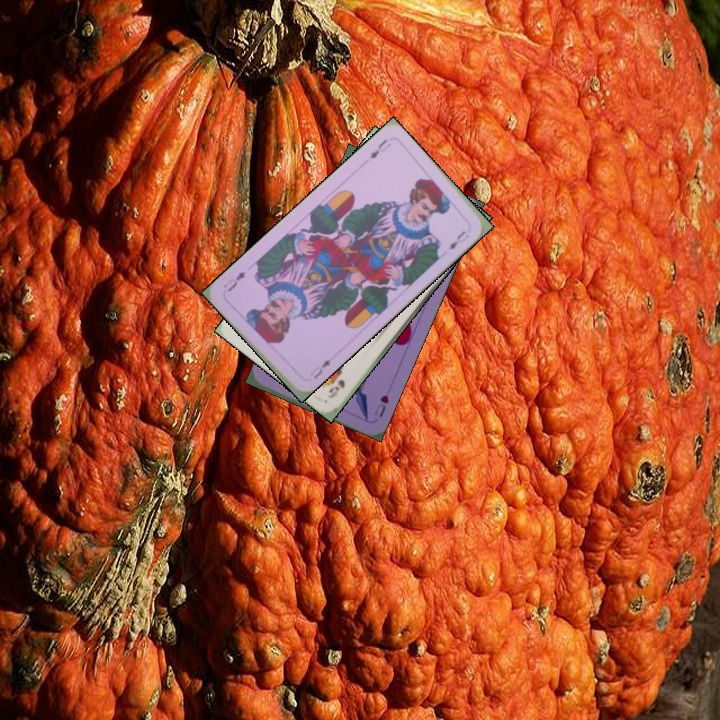EU: (365, 135, 394, 162), (306, 355, 333, 381)
HU: (370, 390, 392, 420)
SO: (324, 375, 348, 401)
